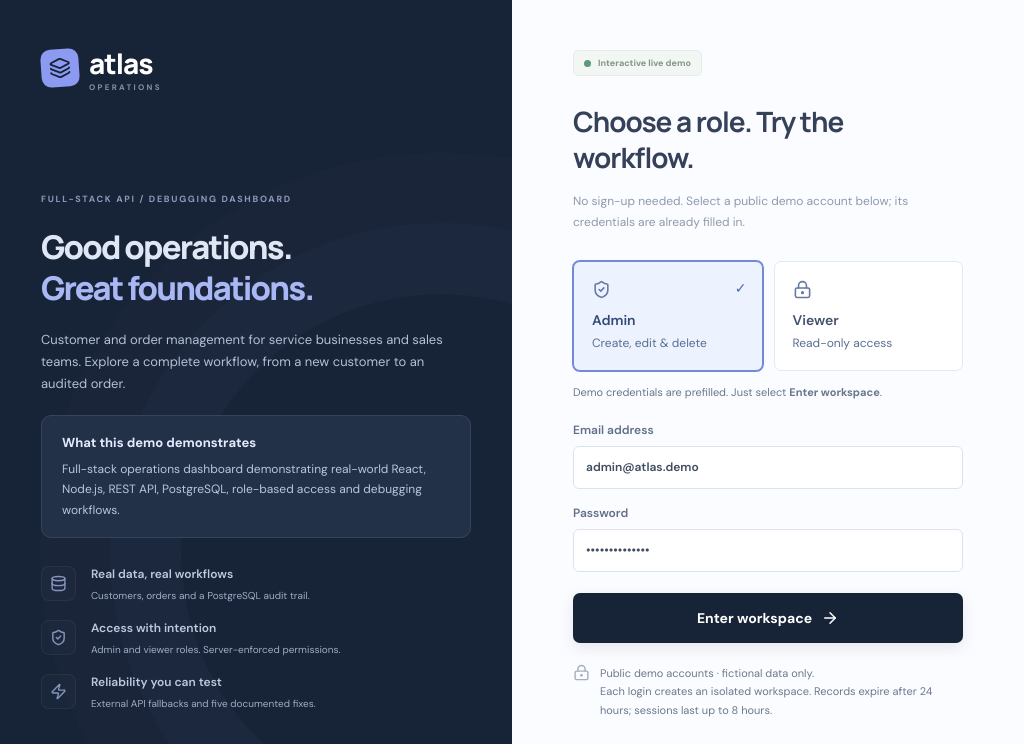
Test: Portfolio workflow recovery › prefills the selected viewer account and recovers from failed sign-in
Click the button "Viewer Read-only access": click(868, 316) [774, 261, 963, 371]
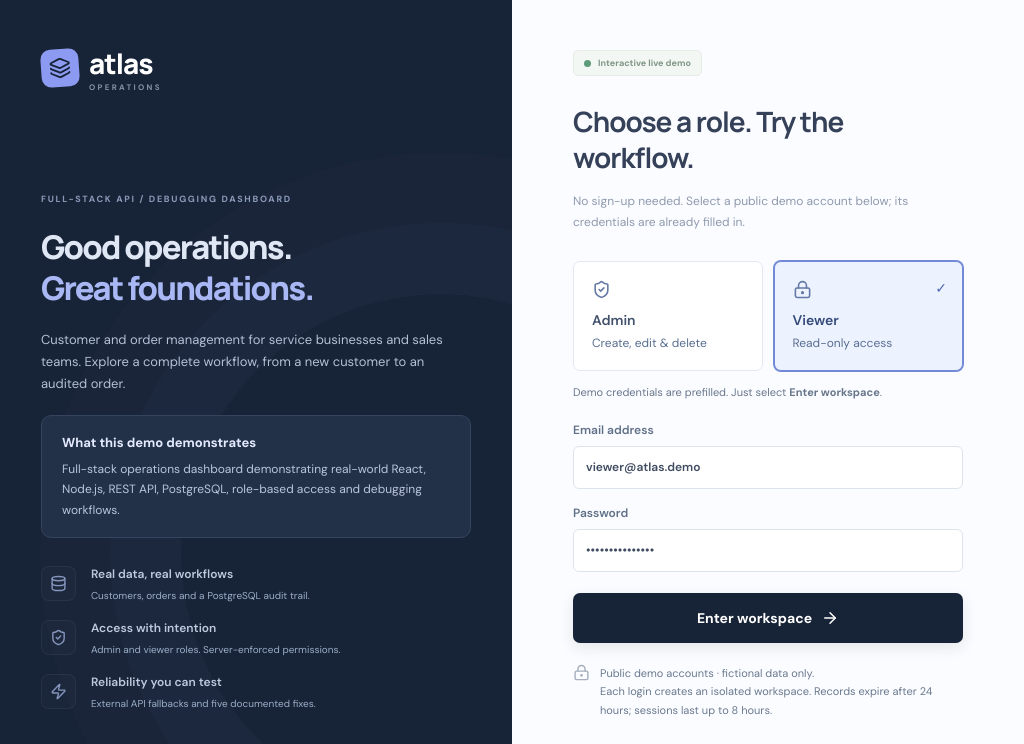
expect the field labelled "Email address" holds "viewer@atlas.demo": met, box [573, 446, 963, 489]
Click the button "Enter workspace": click(768, 618) [573, 593, 963, 643]
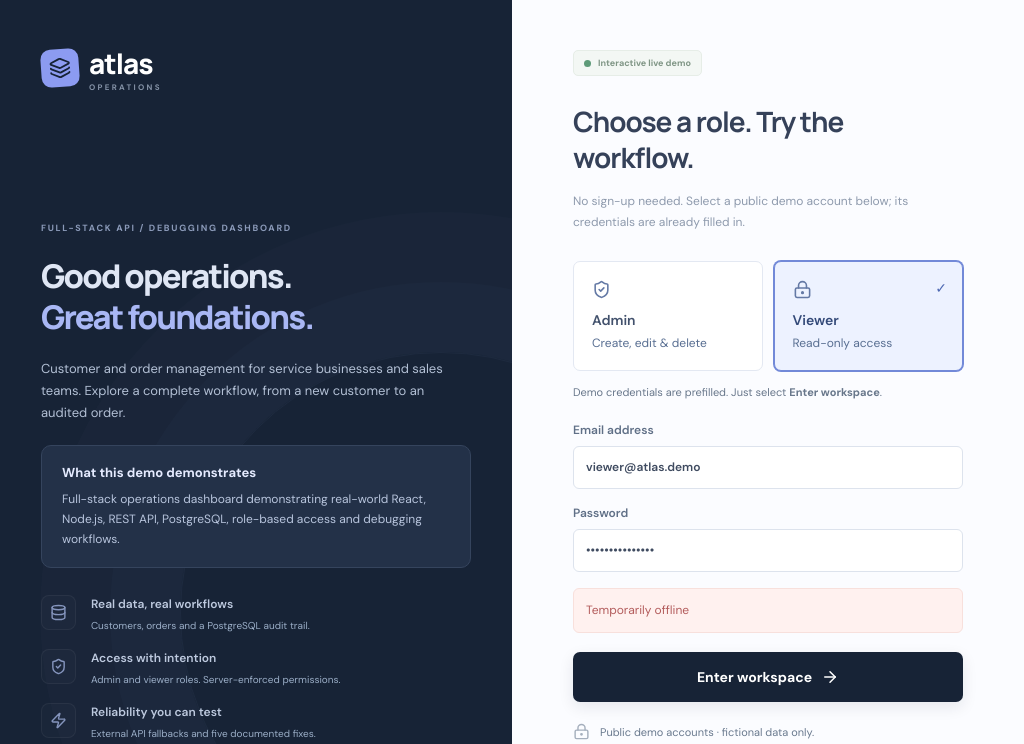
expect the button "Enter workspace" is enabled: met, box [573, 652, 963, 702]
expect the text "Temporarily offline" is shown: met, box [573, 588, 963, 633]
